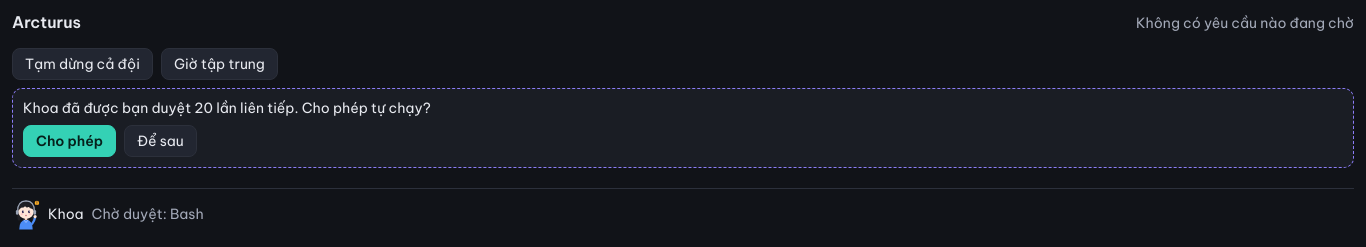
LitePopupView › suggestion_card_answers_with_one_message_and_disappears
This screenshot has width=1366, height=247.
Check: the text "Khoa đã được bạn duyệt 20 lần liên tiếp. Cho phép tự chạy?" is shown, box top-left (23, 99), bottom-right (431, 117)
Click the button "Cho phép": {"x": 70, "y": 141} top-left (23, 125), bottom-right (116, 157)
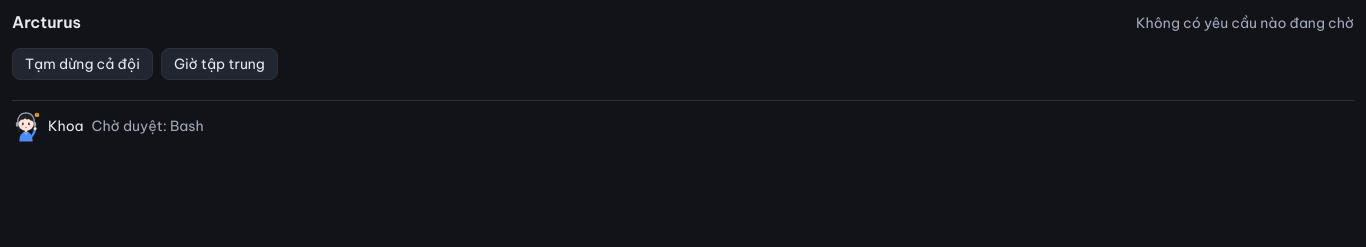
Check: the text "Khoa đã được bạn duyệt 20 lần liên tiếp" is gone
